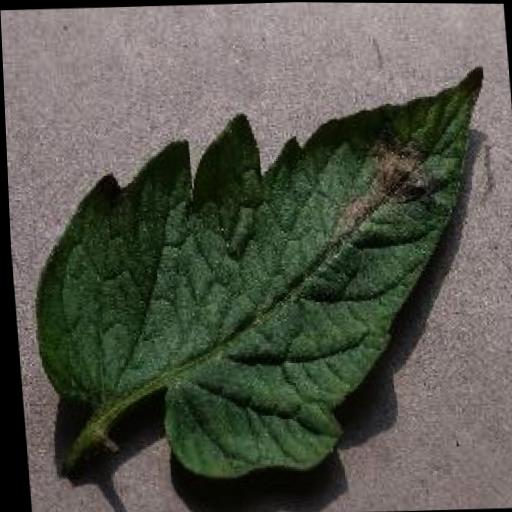Late Blight: (17, 59, 512, 480)
